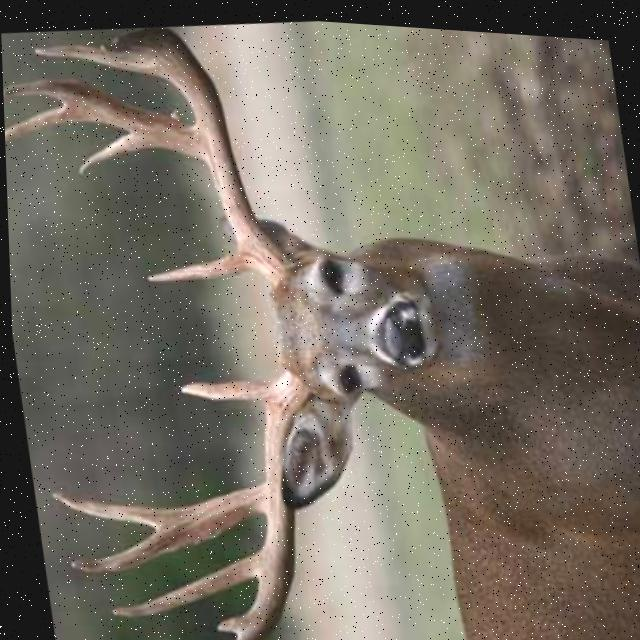E1: (75, 128, 163, 182)
E2: (4, 103, 92, 143)
E3: (2, 76, 72, 100)
E4: (44, 486, 169, 526)
L-E1: (62, 528, 174, 572)
L-F: (99, 23, 293, 284)
L-G1: (141, 245, 253, 281)
L-G2: (29, 41, 176, 81)
R-F: (224, 363, 313, 640)
R-G1: (174, 375, 268, 399)
R-G2: (103, 538, 259, 615)
R-G3: (210, 606, 244, 631)
